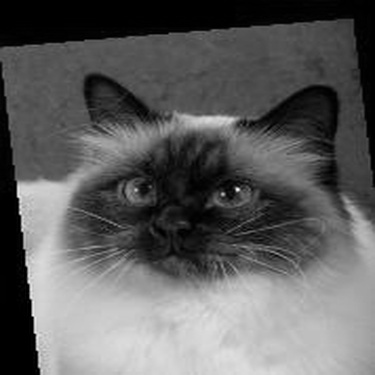cat: (13, 58, 373, 374)
